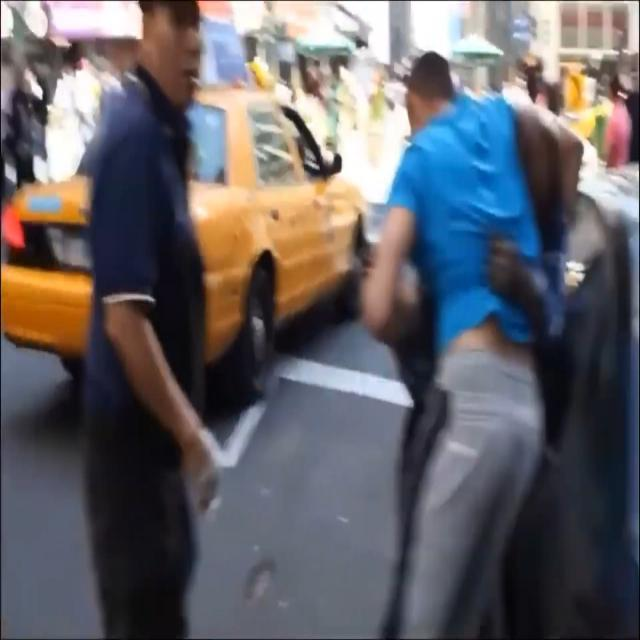non-violence: (83, 2, 216, 640)
violence: (360, 51, 584, 640)
